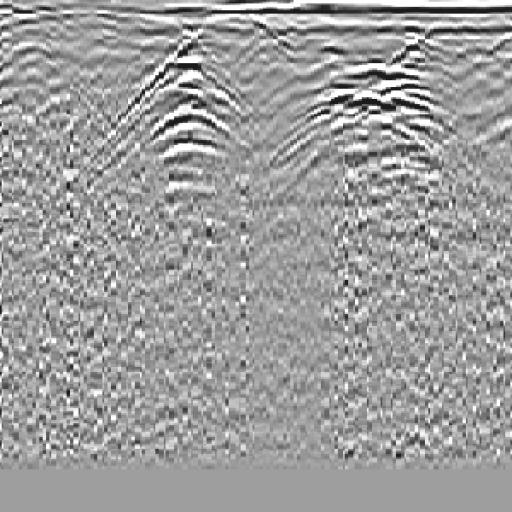metalic: (284, 45, 456, 191)
